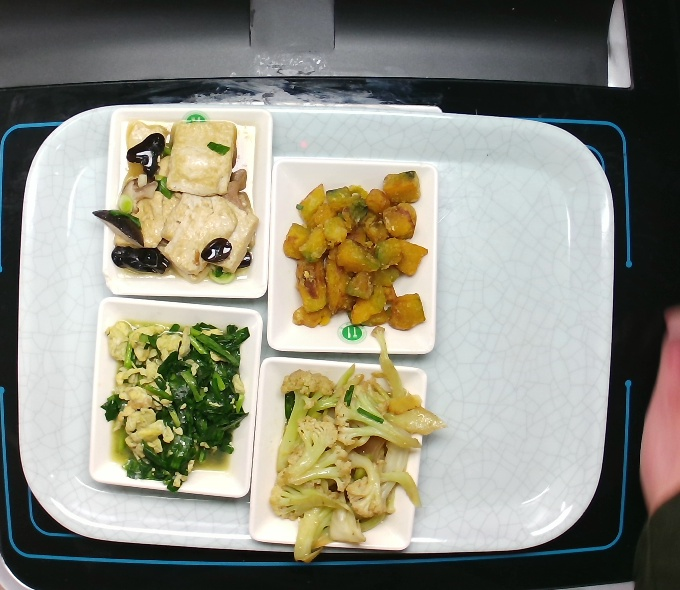wcq-DanHuangNanGua: (273, 158, 453, 345)
wcq-JiaChangDouFu: (88, 107, 268, 294)
wcq-JiuCaiJiDan: (84, 306, 264, 493)
wcq-QiuCai: (255, 348, 441, 561)
